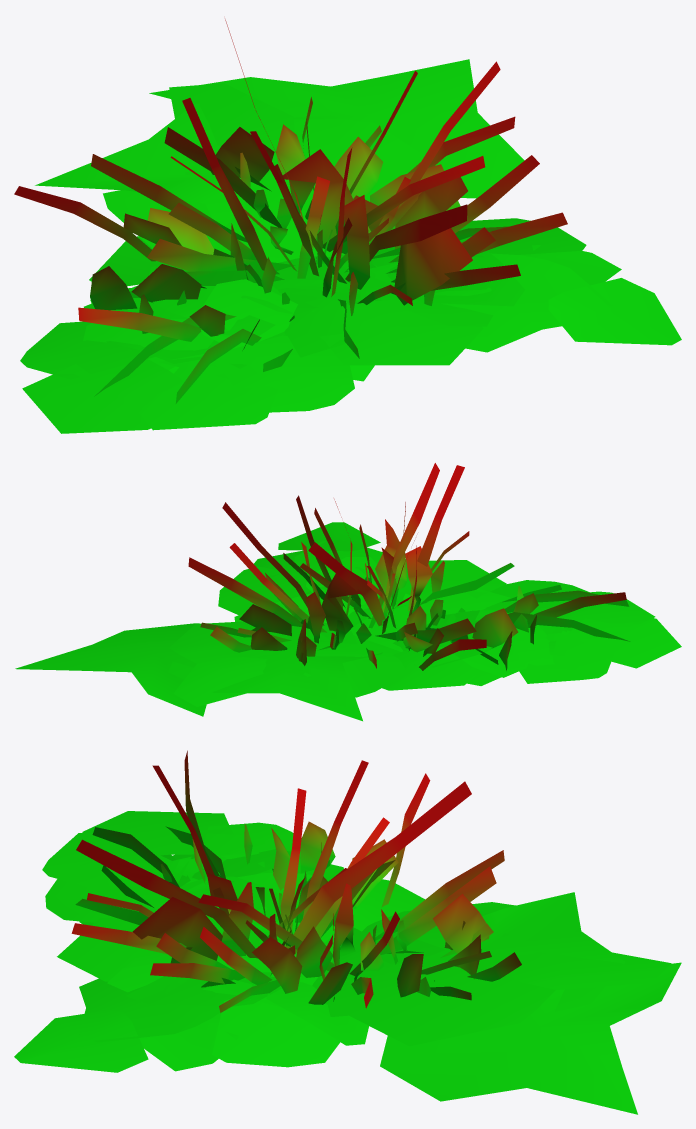
File: Wild Grass_LOD2_Var13_vdilbaiia.fbx
3 renders of one model, top to bottom at view 1: azimuth 30°, elevation 25°; view 2: azimuth 150°, elevation 25°; view 3: azimuth 270°, elevation 25°, orthographic. The views are drawn at different scales.
Visible parts, largest first — view 1: _a5ec_Var13_LOD2; view 2: _a5ec_Var13_LOD2; view 3: _a5ec_Var13_LOD2.
Boxes of the visible parts, bbox=[...] form: _a5ec_Var13_LOD2: bbox=[14, 19, 681, 433]; _a5ec_Var13_LOD2: bbox=[15, 463, 681, 721]; _a5ec_Var13_LOD2: bbox=[14, 750, 681, 1114].
Size of the model in its own units: 96.18 by 27.99 by 88.32.
